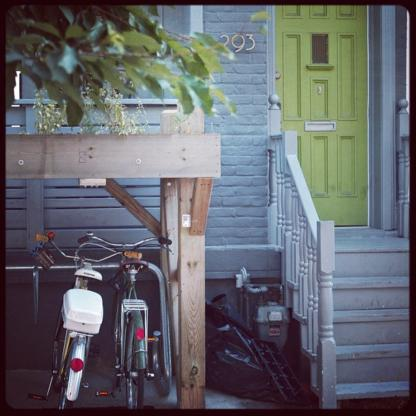door: (277, 11, 368, 222)
